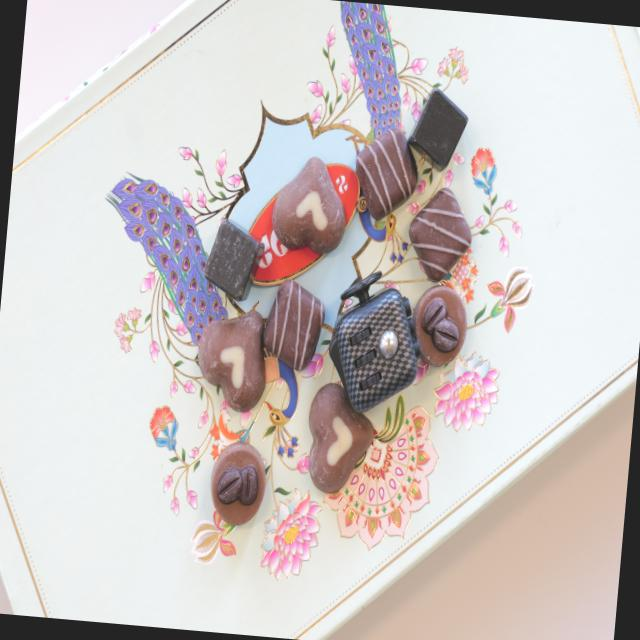Arabia: (207, 438, 269, 528), (411, 281, 471, 370)
Passion_au_lait: (303, 383, 378, 496), (192, 308, 272, 412), (272, 154, 350, 254)
Stracciatella: (352, 122, 422, 222), (406, 184, 476, 284), (260, 276, 329, 372)
